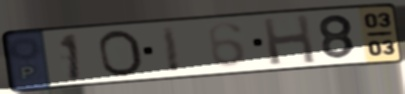1: (56, 31, 87, 81)
6: (205, 20, 249, 70)
8: (317, 13, 358, 61)
H: (259, 12, 319, 67)
I: (158, 24, 183, 75)
O: (96, 29, 147, 80)
